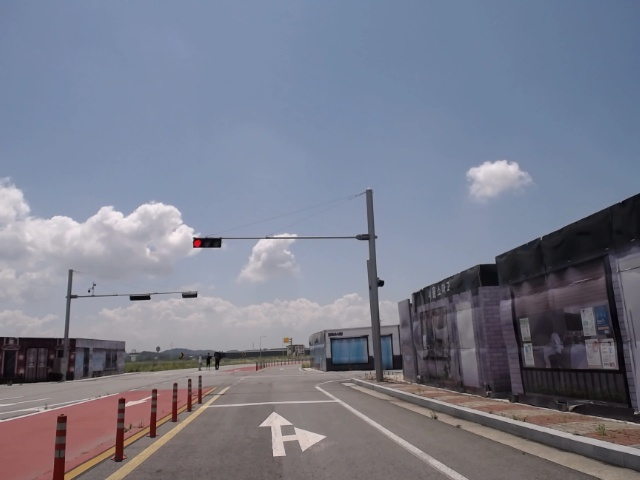red_3: (191, 238, 224, 249)
